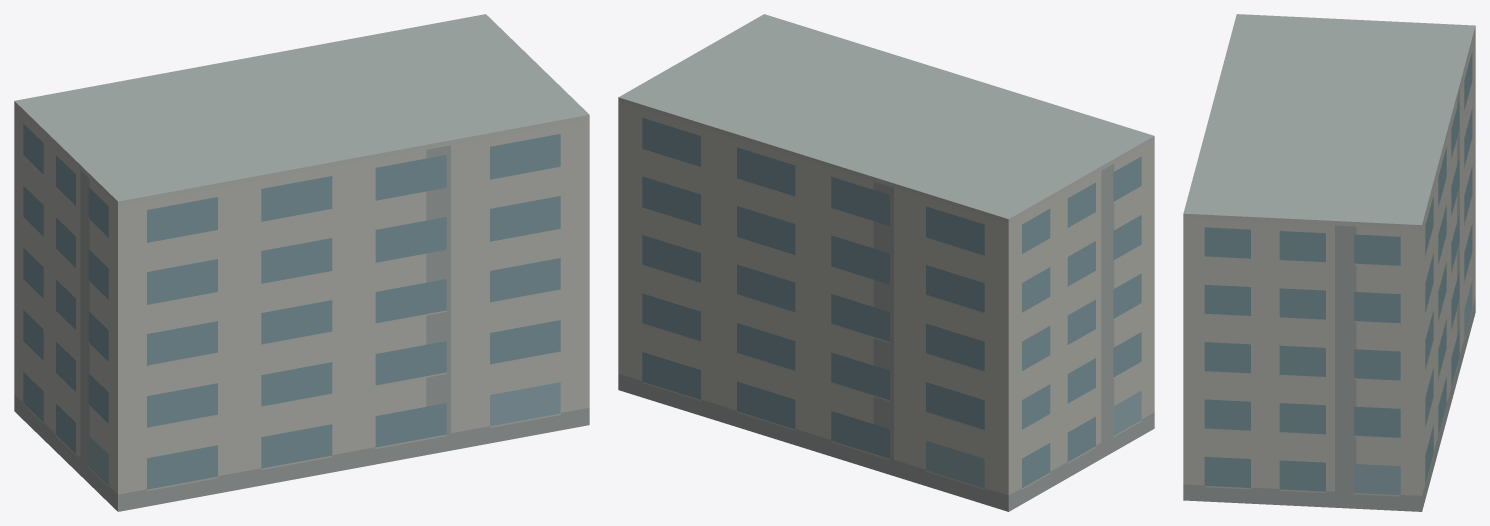
The model's file is residential-e49b615b-3e31-45dd-8d34-294699e77952.glb.
The picture shows the model from 3 angles, left to right: view 1: azimuth 30°, elevation 25°; view 2: azimuth 150°, elevation 25°; view 3: azimuth 270°, elevation 25°; orthographic projection. The views are drawn at different scales.
Parts seen in each view (by area): view 1: residential-e49b615b-3e31-45dd-8d34-294699e77952.tmp; view 2: residential-e49b615b-3e31-45dd-8d34-294699e77952.tmp; view 3: residential-e49b615b-3e31-45dd-8d34-294699e77952.tmp.
Boxes of the visible parts, box(x1,y1,x2,y2) form: residential-e49b615b-3e31-45dd-8d34-294699e77952.tmp: box(14, 14, 589, 511); residential-e49b615b-3e31-45dd-8d34-294699e77952.tmp: box(618, 14, 1154, 511); residential-e49b615b-3e31-45dd-8d34-294699e77952.tmp: box(1183, 14, 1475, 511).
Bounding box in the file's own units: 24.08 × 15.25 × 14.09.
